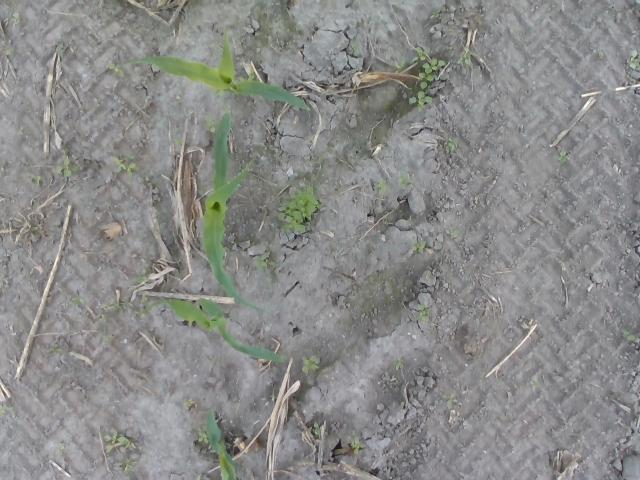Maize: (117, 28, 312, 114), (203, 112, 276, 320), (136, 292, 288, 366), (206, 408, 242, 480)
Weeds: (409, 48, 446, 110), (278, 186, 319, 234), (102, 430, 140, 473), (100, 300, 142, 316), (252, 252, 276, 276), (54, 156, 80, 178), (113, 155, 139, 173), (302, 356, 322, 374), (349, 432, 364, 451), (458, 50, 474, 66), (621, 330, 639, 344), (374, 180, 389, 194), (399, 170, 412, 186), (419, 305, 431, 322), (628, 50, 639, 68), (447, 138, 459, 154), (558, 150, 570, 164), (444, 396, 456, 408), (28, 173, 40, 185), (448, 228, 460, 238), (98, 334, 110, 344), (134, 270, 146, 280), (397, 59, 407, 71), (71, 296, 84, 305), (0, 401, 8, 415), (313, 422, 321, 436), (413, 241, 425, 250), (352, 42, 361, 52), (395, 362, 404, 371), (53, 346, 66, 351)
